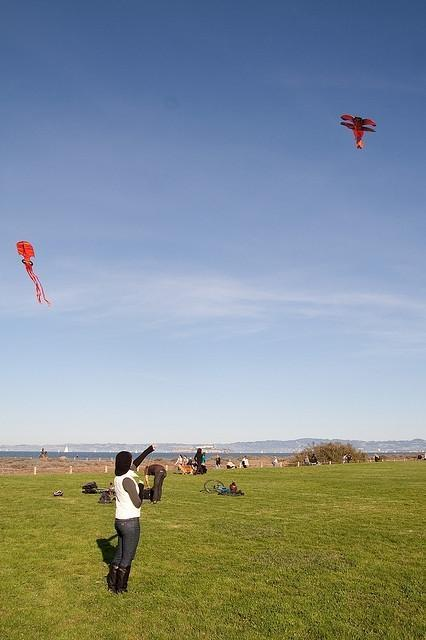bicycle: (200, 479, 244, 496), (83, 480, 116, 496)
